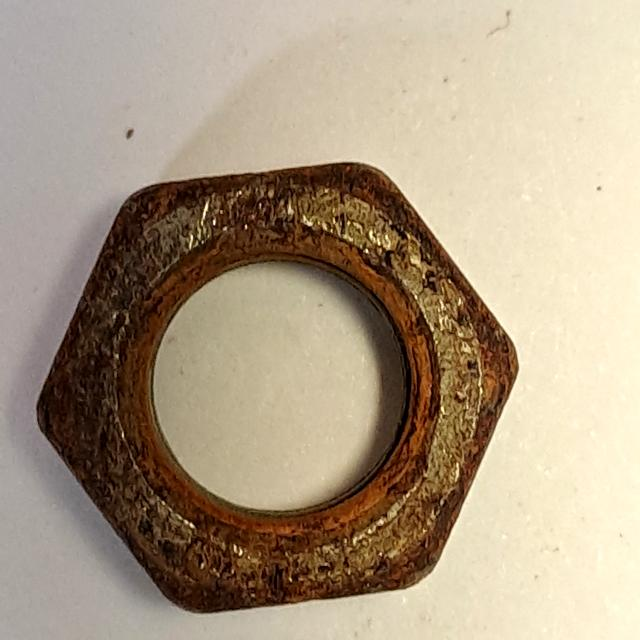Rust: (21, 147, 531, 629)
